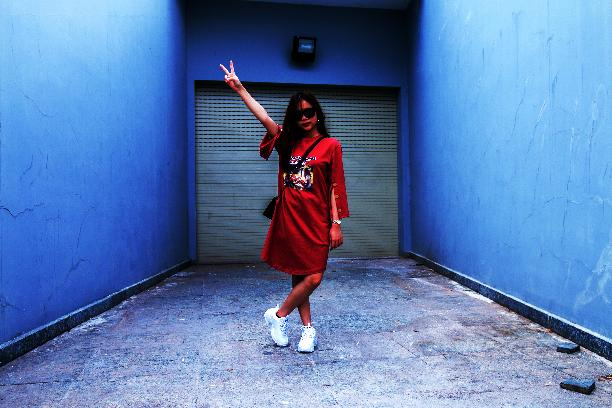Scissors: (215, 58, 240, 87)
